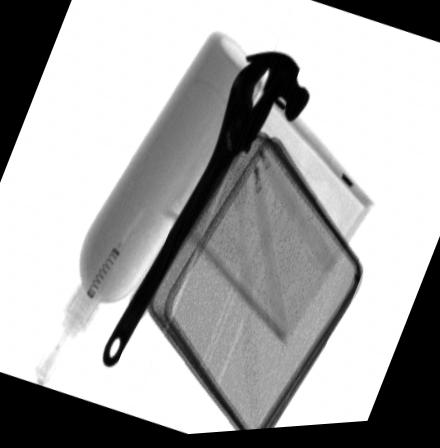Hammer: (132, 55, 311, 318)
Wrench: (102, 64, 269, 368)
